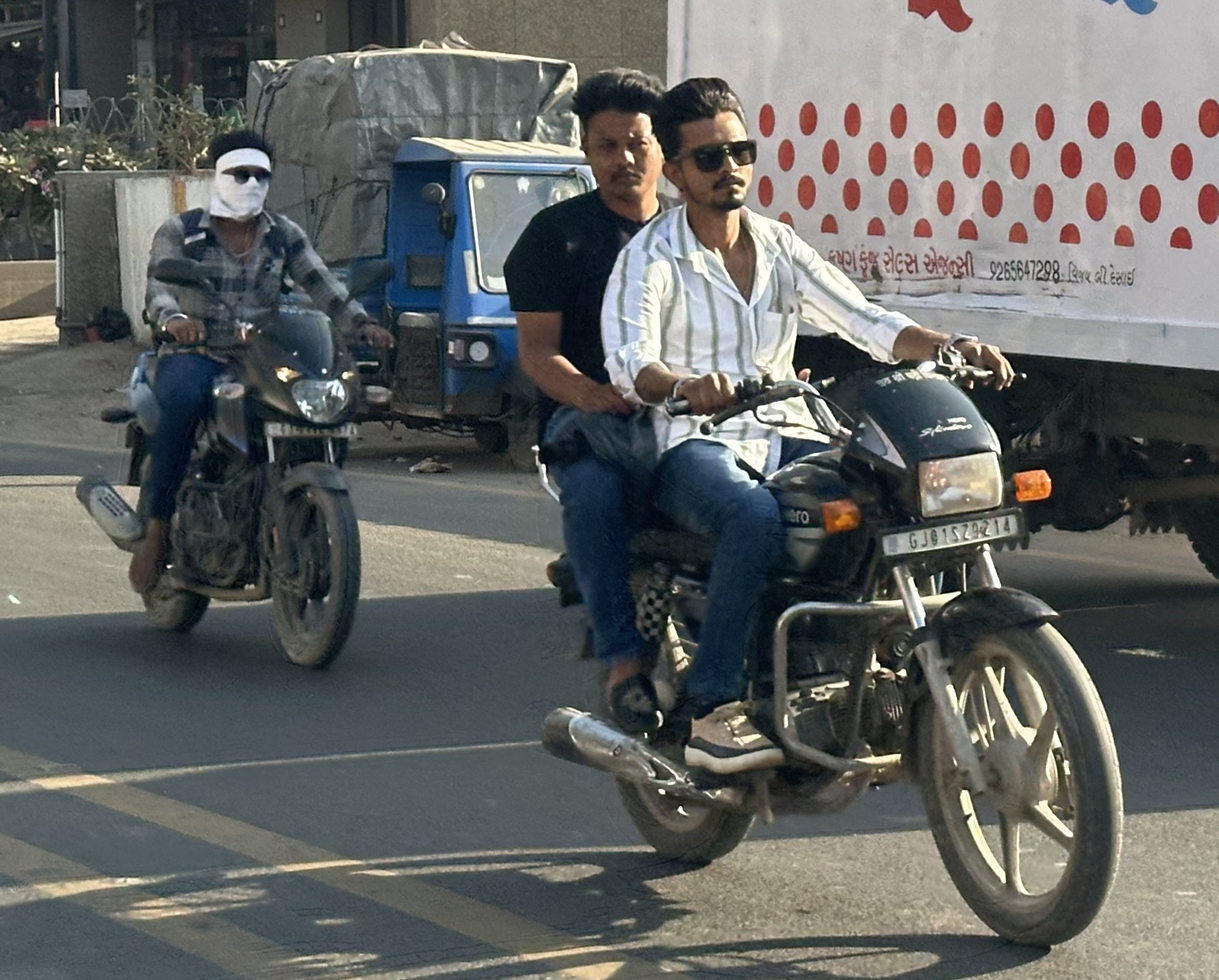BikeWithRider: (493, 59, 1141, 957), (66, 121, 400, 678)
NoHelmet: (646, 67, 770, 219), (563, 62, 675, 212), (192, 124, 290, 231)
